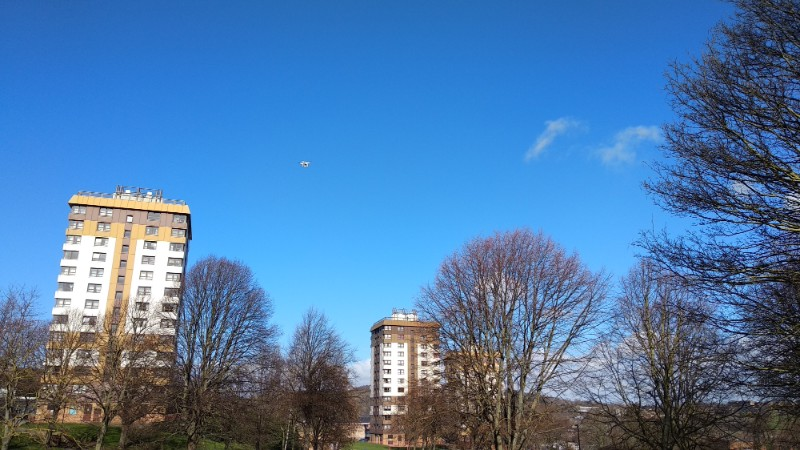drone: (299, 160, 312, 169)
